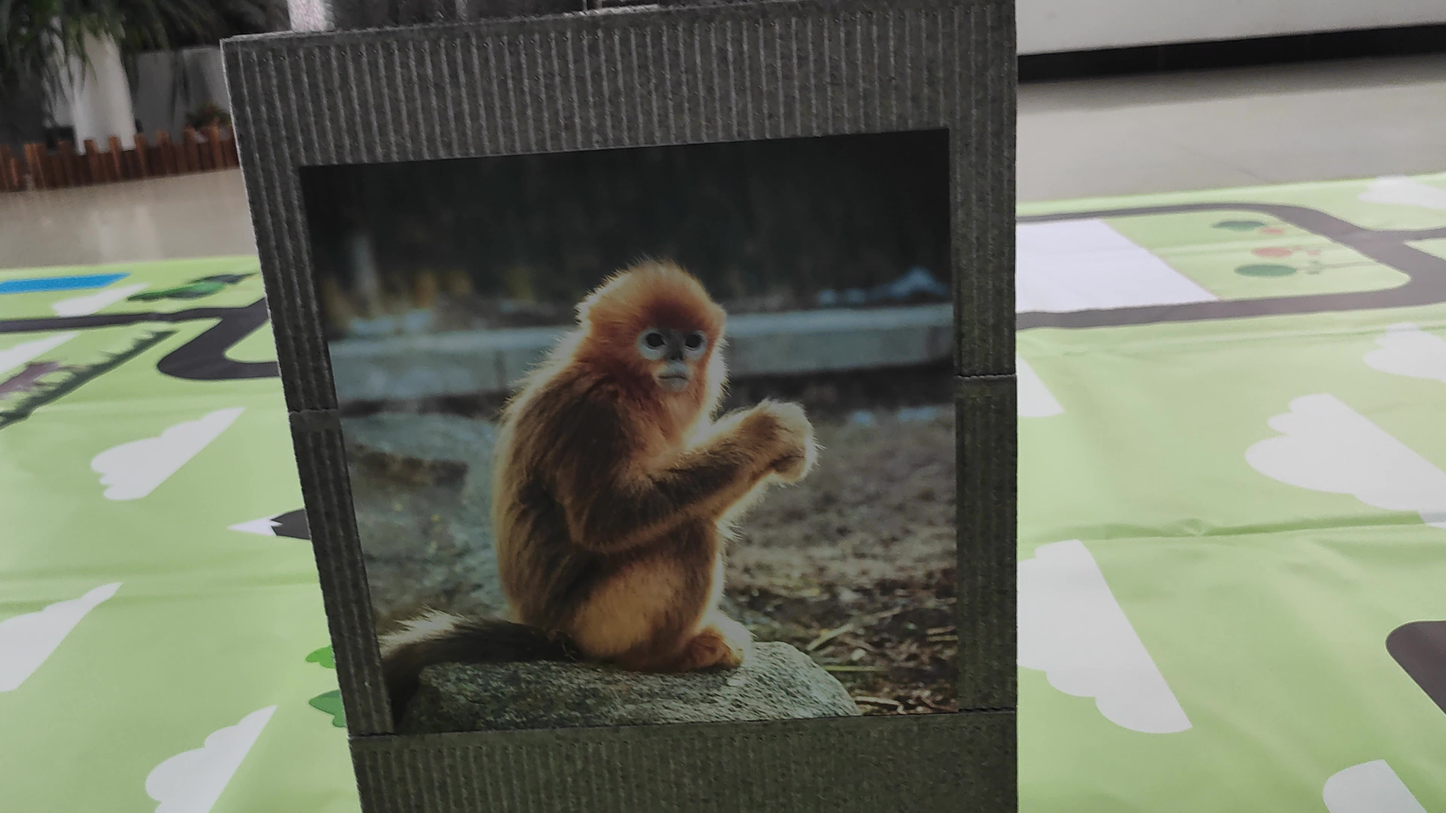monkey: (370, 209, 840, 732)
